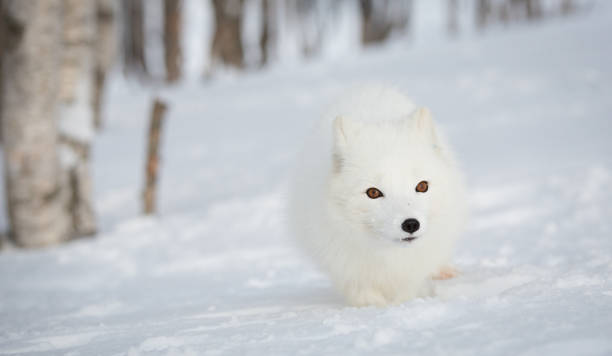arcticfox: (346, 145, 450, 267)
